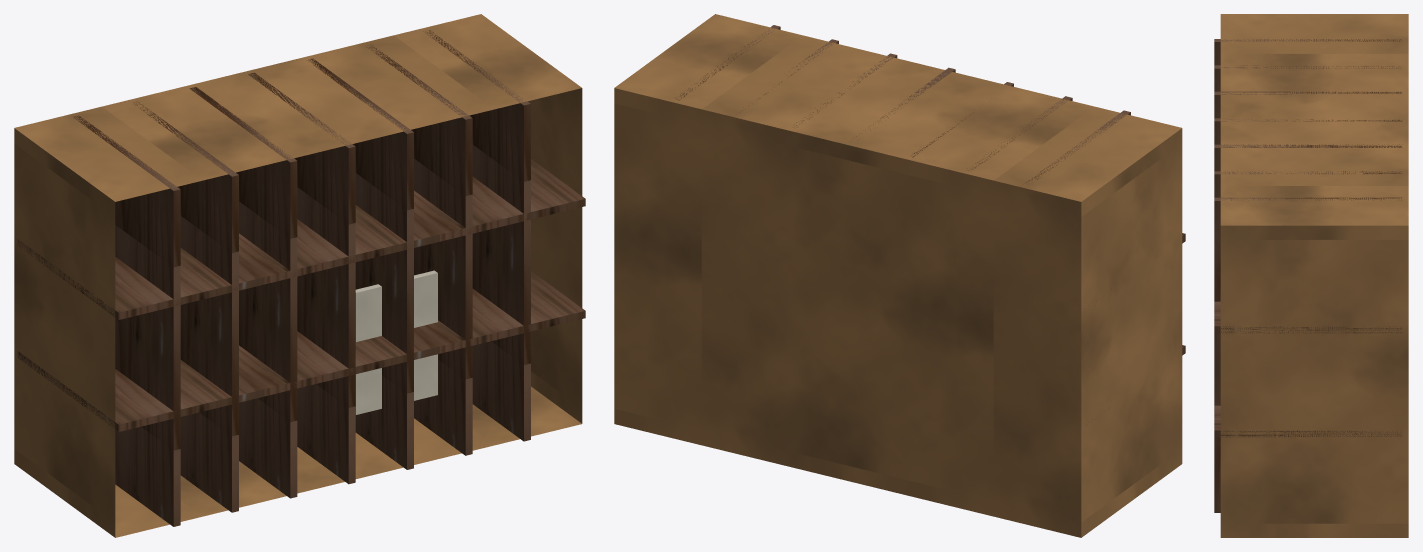
Rendered from Pigeonholes.obj.
3 views of the same model, side by side, from view 1: azimuth 30°, elevation 25°; view 2: azimuth 150°, elevation 25°; view 3: azimuth 270°, elevation 25° (orthographic). The views are drawn at different scales.
Parts seen in each view (by area): view 1: cells, shell, papers; view 2: shell, cells; view 3: shell, cells.
Boxes of the visible parts, <box> form: cells: <box>17,30,585,526</box>; shell: <box>14,14,582,537</box>; papers: <box>355,270,437,414</box>; shell: <box>614,14,1182,537</box>; cells: <box>676,25,1185,355</box>; shell: <box>1220,14,1408,537</box>; cells: <box>1214,39,1402,512</box>.
Size of the model in its own units: 0.8 by 0.55 by 0.31.
Materials: 3 (3 with a texture image).
